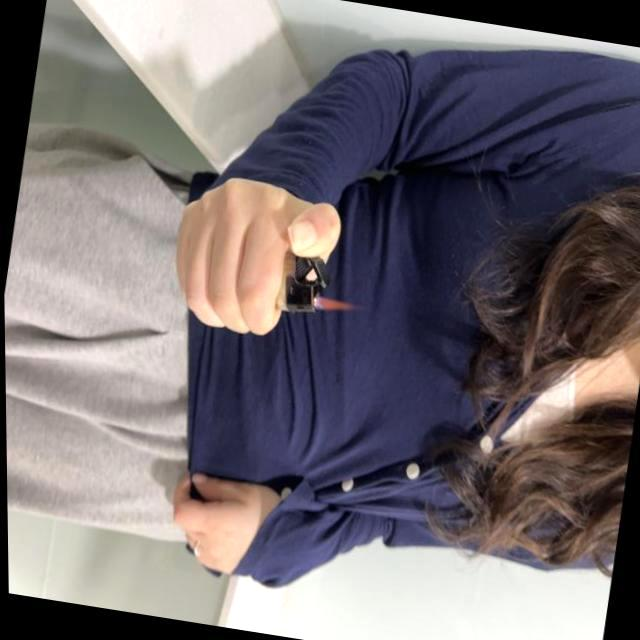fire: (314, 294, 354, 314)
